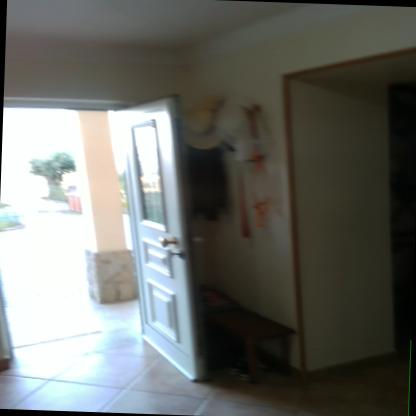open: (0, 80, 199, 409)
semi: (272, 49, 416, 388)
